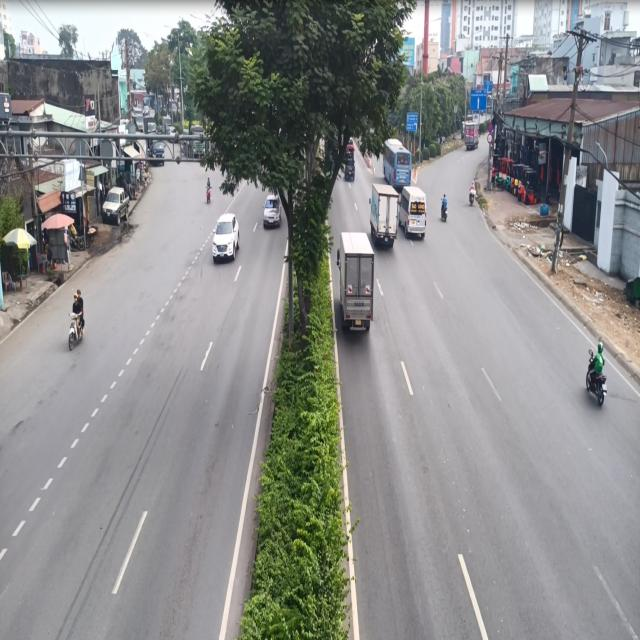bus: (380, 136, 412, 190)
car: (401, 179, 428, 247), (210, 208, 240, 267), (260, 188, 285, 234)
motor: (584, 332, 607, 416), (61, 285, 91, 348), (438, 190, 449, 232)
truck: (336, 224, 377, 338), (363, 183, 398, 246)
